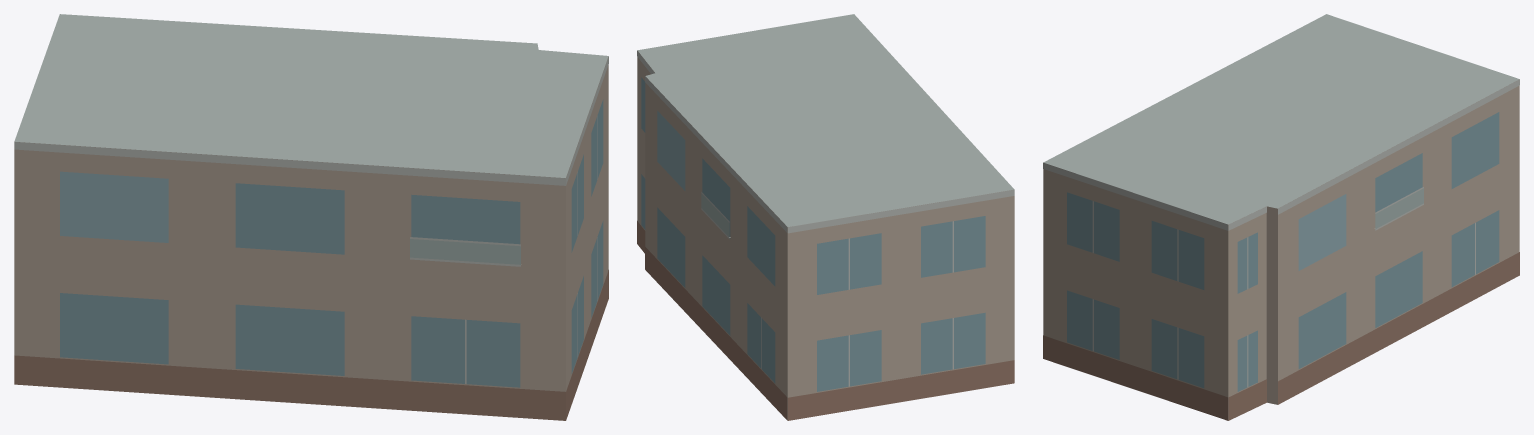
The model's file is survey-upis-32929468.glb.
3 views of the same model, side by side, from view 1: azimuth 30°, elevation 25°; view 2: azimuth 150°, elevation 25°; view 3: azimuth 270°, elevation 25° (orthographic). The views are drawn at different scales.
Visible parts, largest first — view 1: survey-upis-32929468.tmp; view 2: survey-upis-32929468.tmp; view 3: survey-upis-32929468.tmp.
Boxes of the visible parts, x1,y1,x2,y2 form: survey-upis-32929468.tmp: (14,14,608,420); survey-upis-32929468.tmp: (637,14,1014,420); survey-upis-32929468.tmp: (1043,14,1519,420).
Size of the model in its own units: 17.5 by 7.6 by 16.73.
